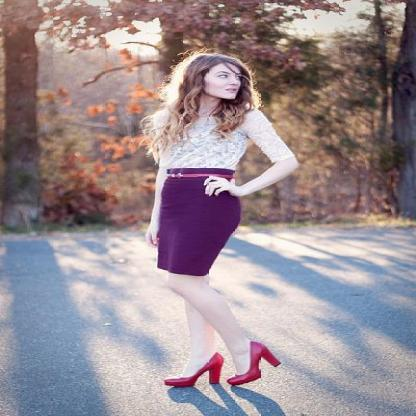shirt: (146, 125, 254, 170)
shoe: (187, 341, 280, 386)
skirt: (157, 168, 240, 275)
